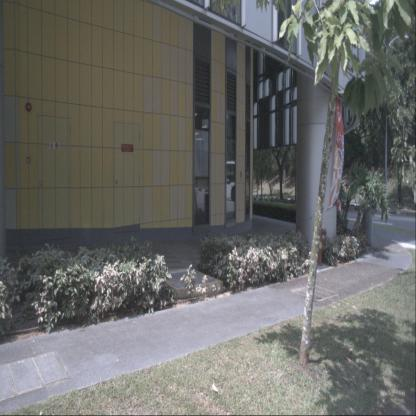vehicle-bus-rigid: (196, 160, 244, 202)
